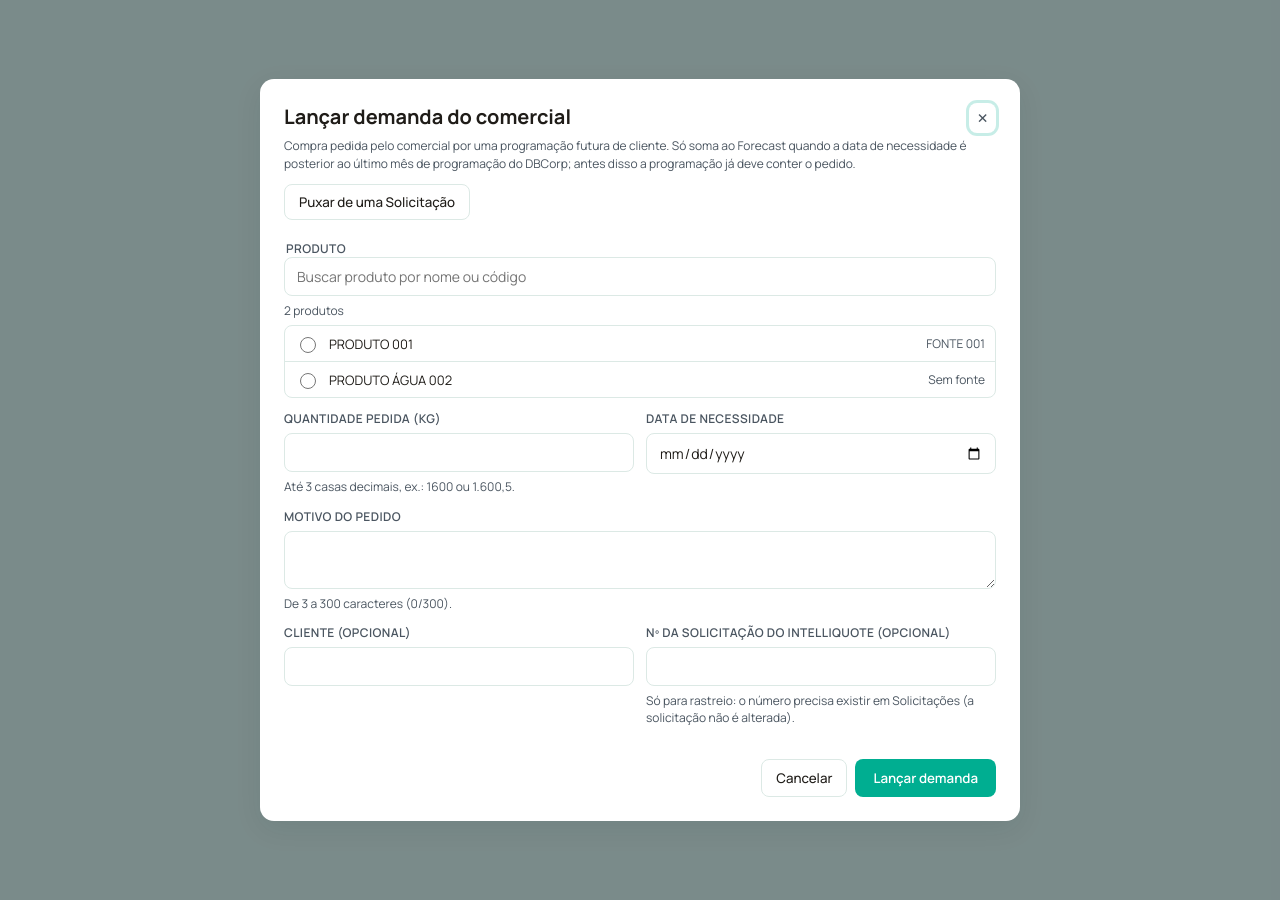
ForecastDemandaComercialModal - lancar › erro do servidor (400) aparece no dialogo, que continua aberto com os dados
Expected: the text "2 produtos" is shown, 284,302 -> 344,319
Click the radio button labelled "PRODUTO 001 FONTE 001".
click(308, 345)  # box 300,337 -> 316,353
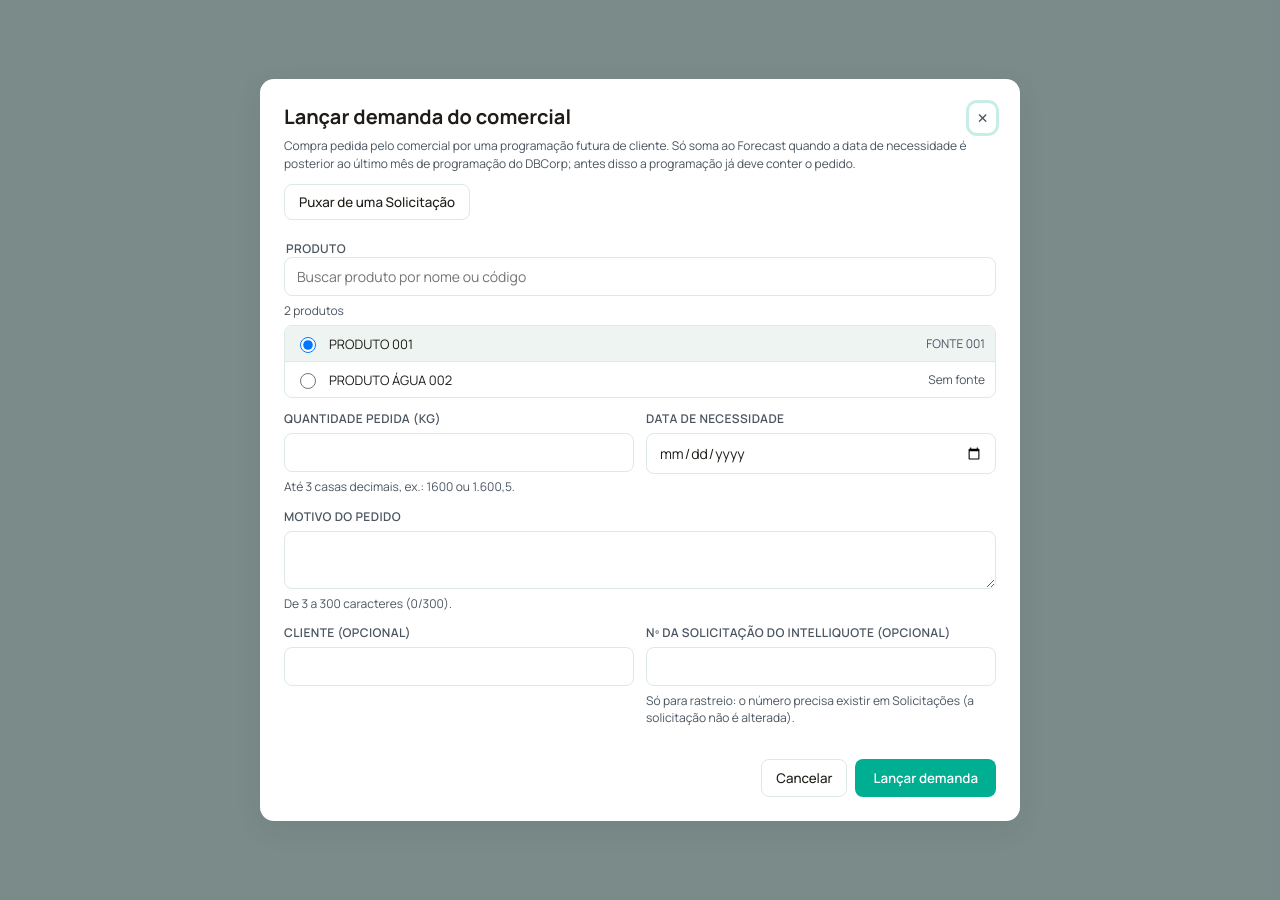
Type "1600" into the field labelled "Quantidade pedida (kg)".
click(459, 453); type("1600")  # box 284,433 -> 634,472
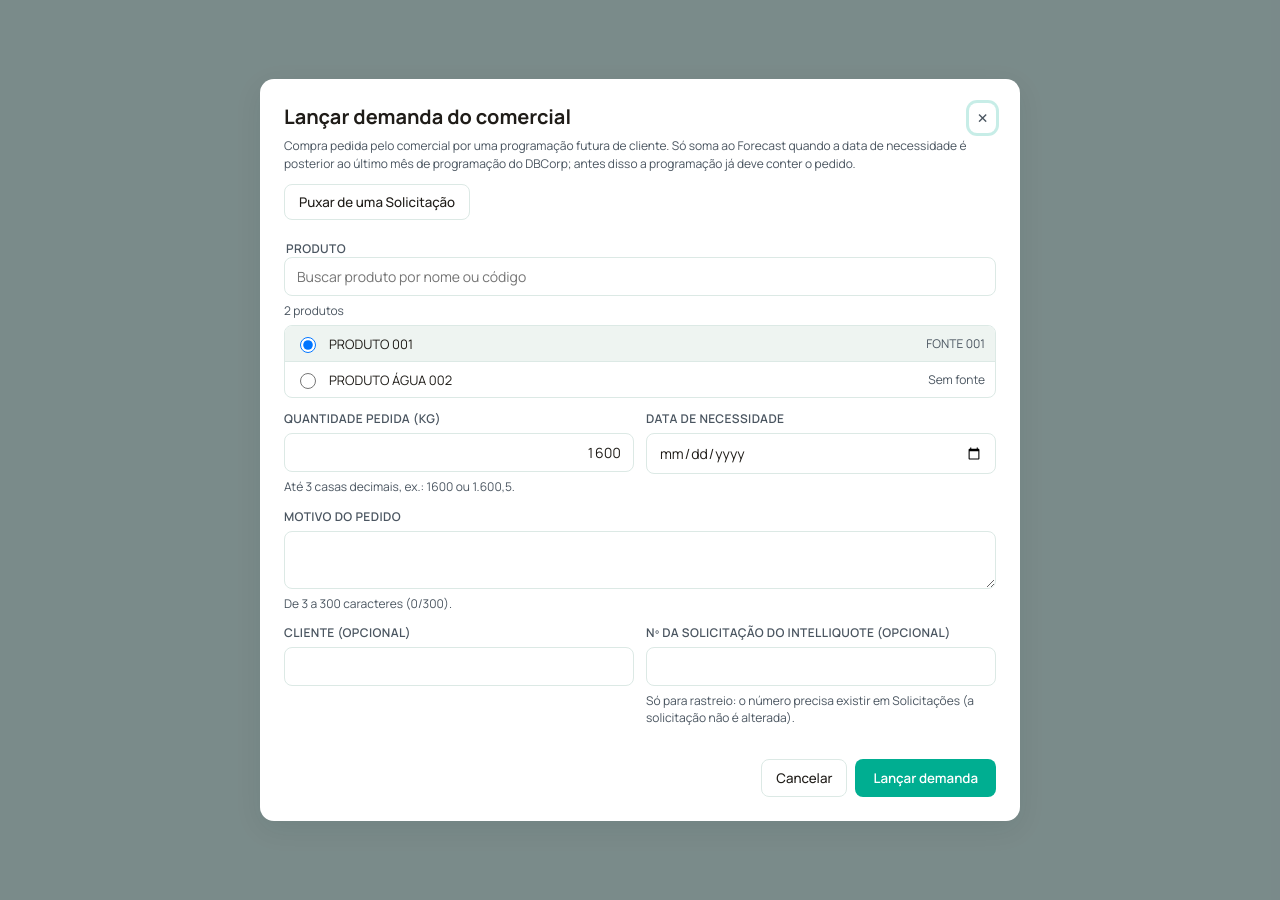
Type "2027-02-10" into the date field labelled "Data de necessidade".
click(821, 454); type("2027-02-10")  # box 646,433 -> 996,474
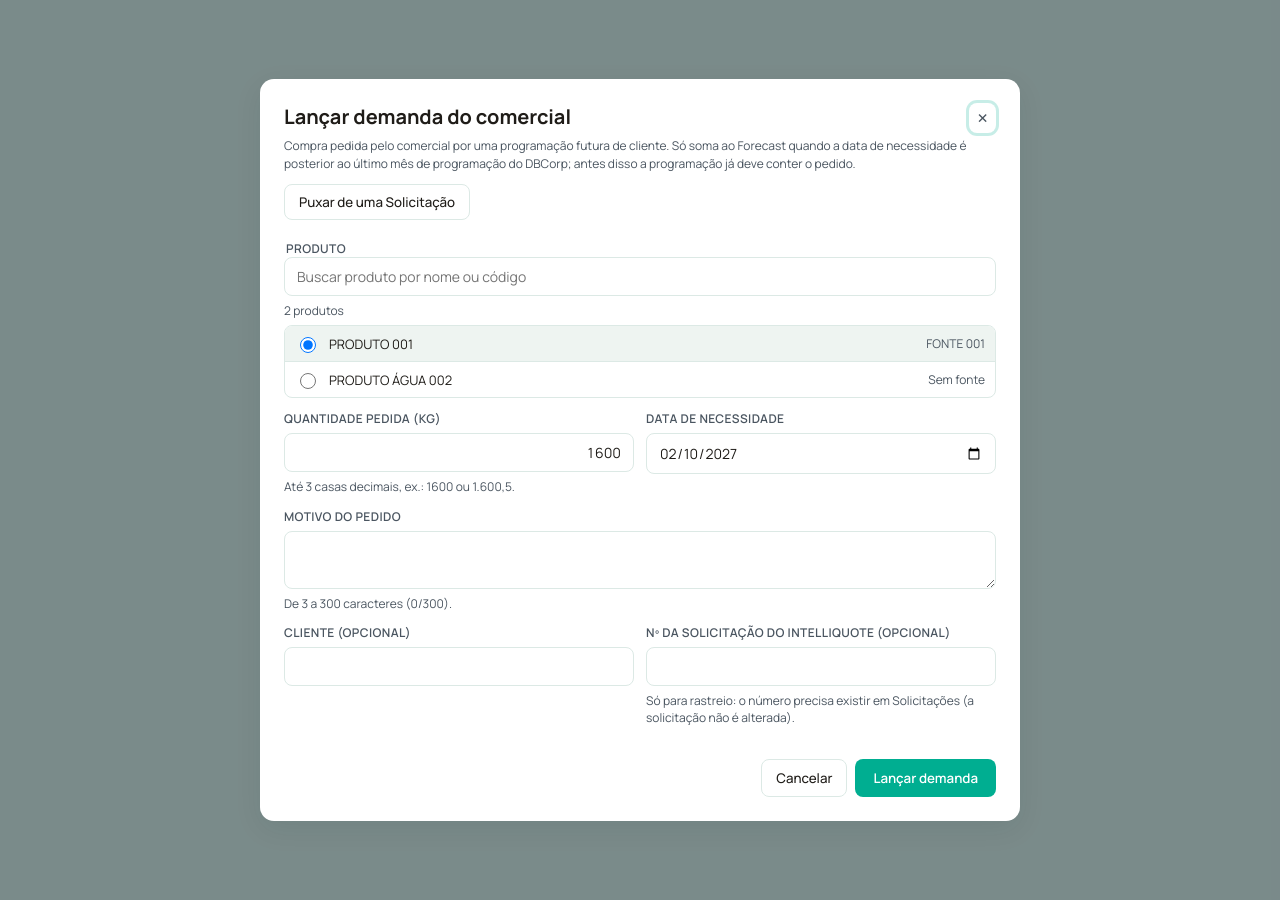
Type "MOTIVO SINTETICO" into the text box labelled "Motivo do pedido".
click(640, 560); type("MOTIVO SINTETICO")  # box 284,531 -> 996,589
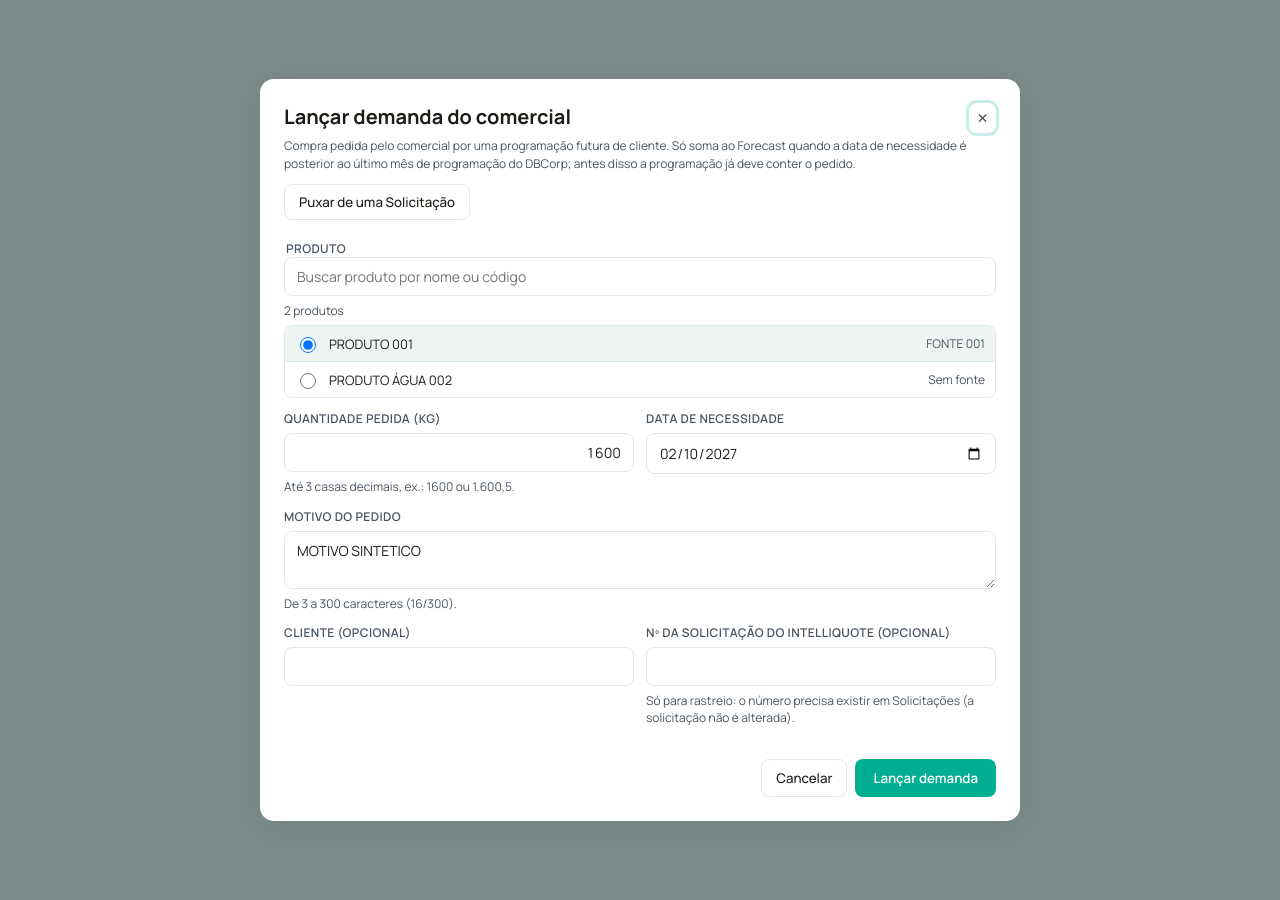
Click the button "Lançar demanda".
click(926, 778)  # box 855,759 -> 996,797
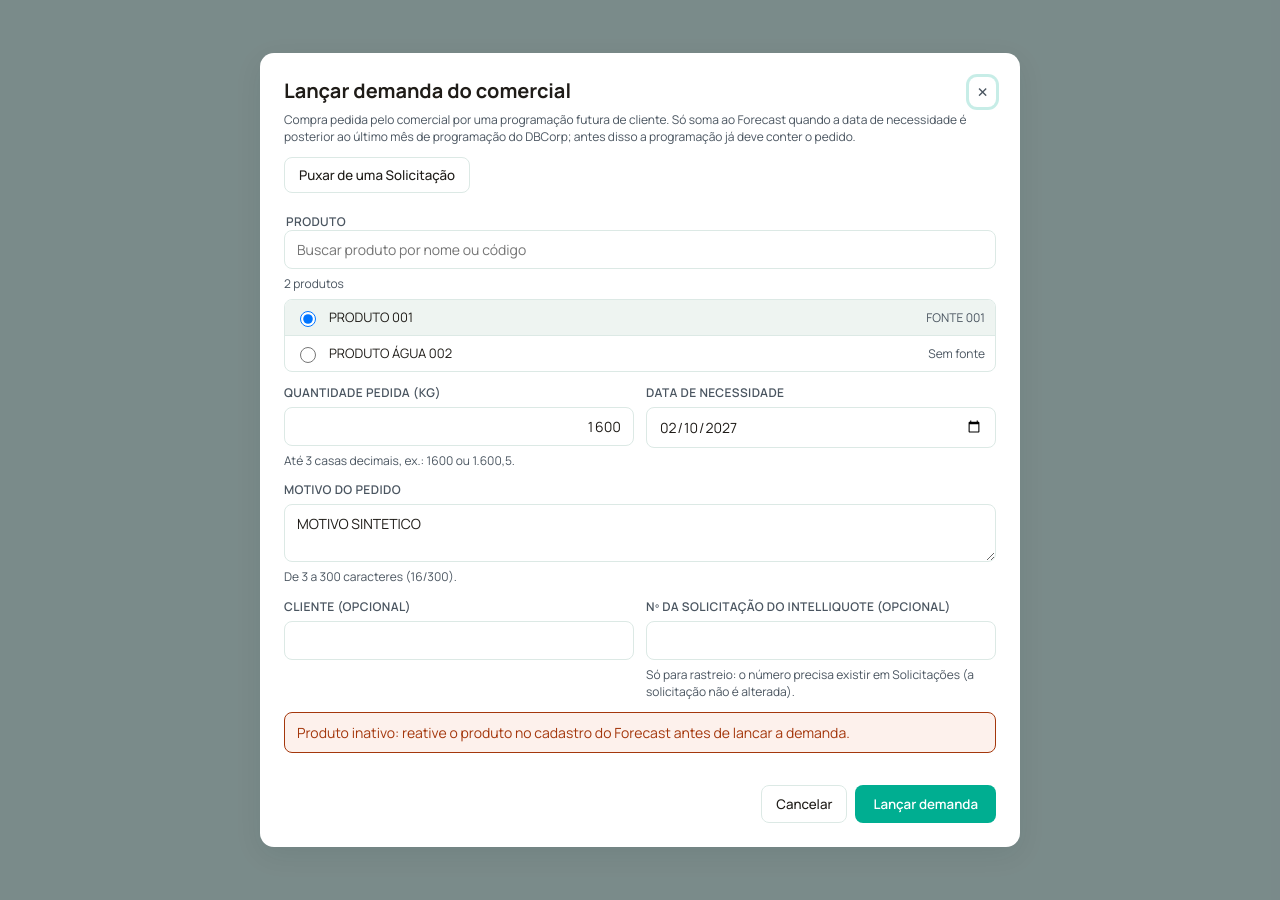
Now the 2nd message shows "Produto inativo", box 297,723 -> 850,742
